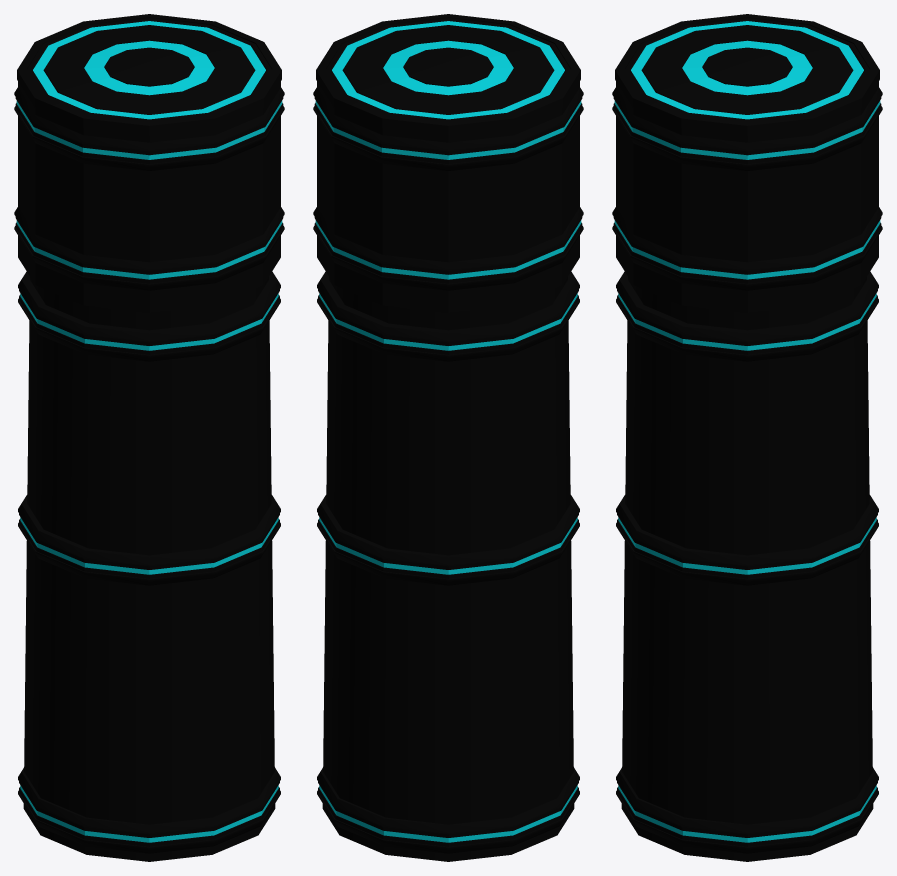
The model's file is PlatformRoboticLong01.fbx.
3 renders of one model, left to right at view 1: azimuth 30°, elevation 25°; view 2: azimuth 150°, elevation 25°; view 3: azimuth 270°, elevation 25°, orthographic.
Parts seen in each view (by area): view 1: PlatformRobotic01, pCylinder6, pCylinder5, pCylinder4, pCylinder2, pCylinder3; view 2: PlatformRobotic01, pCylinder6, pCylinder5, pCylinder4, pCylinder2, pCylinder3; view 3: PlatformRobotic01, pCylinder6, pCylinder5, pCylinder4, pCylinder2, pCylinder3.
Part boxes in pixels (<box>): PlatformRobotic01: <box>17,14,281,861</box>; pCylinder6: <box>18,271,280,361</box>; pCylinder5: <box>18,495,280,585</box>; pCylinder4: <box>18,768,280,853</box>; pCylinder2: <box>14,87,284,170</box>; pCylinder3: <box>14,207,284,290</box>; PlatformRobotic01: <box>316,14,580,861</box>; pCylinder6: <box>317,271,579,361</box>; pCylinder5: <box>317,495,579,585</box>; pCylinder4: <box>317,768,579,853</box>; pCylinder2: <box>313,87,583,170</box>; pCylinder3: <box>313,207,583,290</box>; PlatformRobotic01: <box>615,14,879,861</box>; pCylinder6: <box>616,271,878,361</box>; pCylinder5: <box>616,495,878,585</box>; pCylinder4: <box>616,768,878,853</box>; pCylinder2: <box>612,87,882,170</box>; pCylinder3: <box>612,207,882,290</box>.
Bounding box in the file's own units: 2.55 × 7.73 × 2.55.
